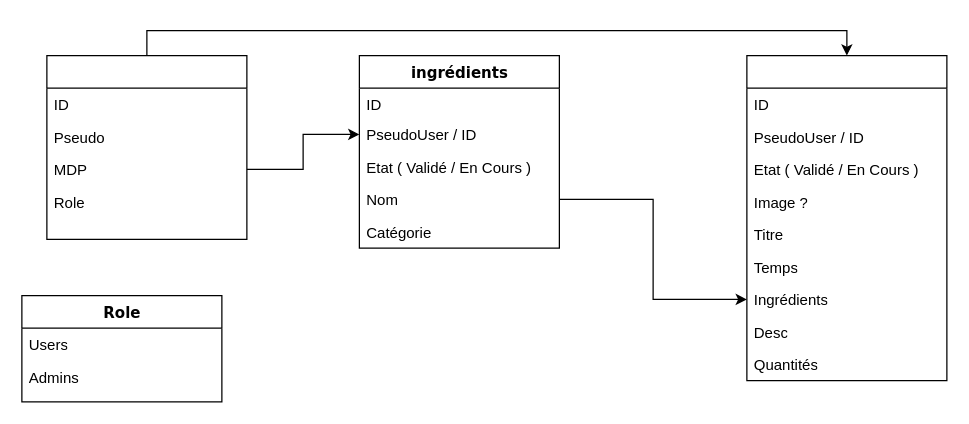
This 969x424 diagram has some shape labels left out. The box of each missing label's shape, as (x1, y1, x2, y2) in pixels:
Recettes: (746, 54, 947, 381)
User: (46, 54, 247, 239)
